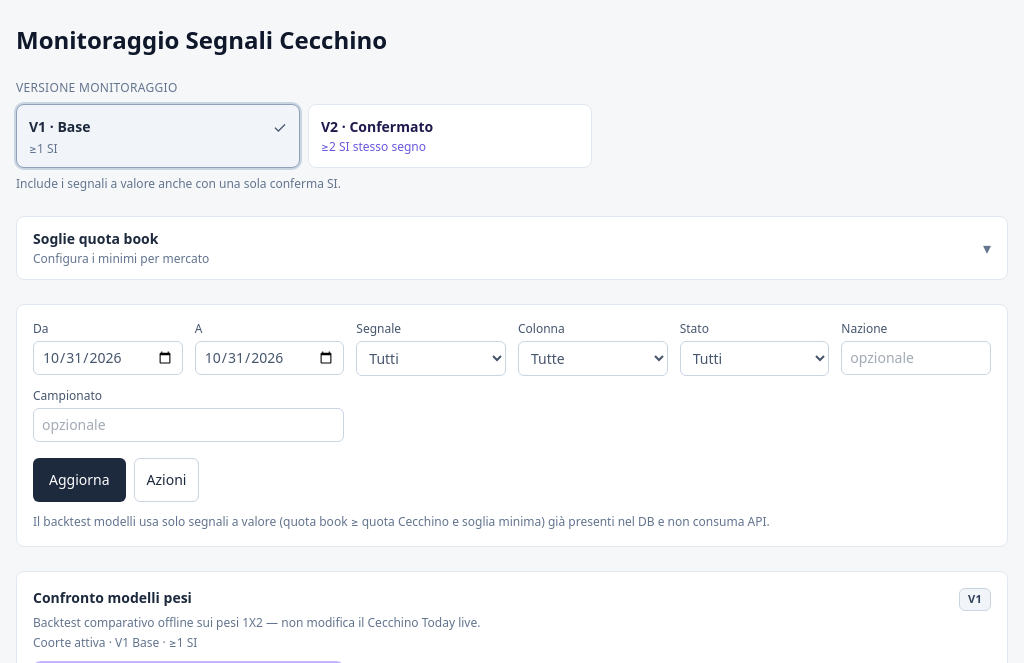
Scenario: CecchinoSignalsMonitoringPage — V1/V2 › ritorno a V2 aggiorna card e badge
Click the radio button with test id "monitoring-version-v2" at (377, 126), box [308, 104, 592, 168]
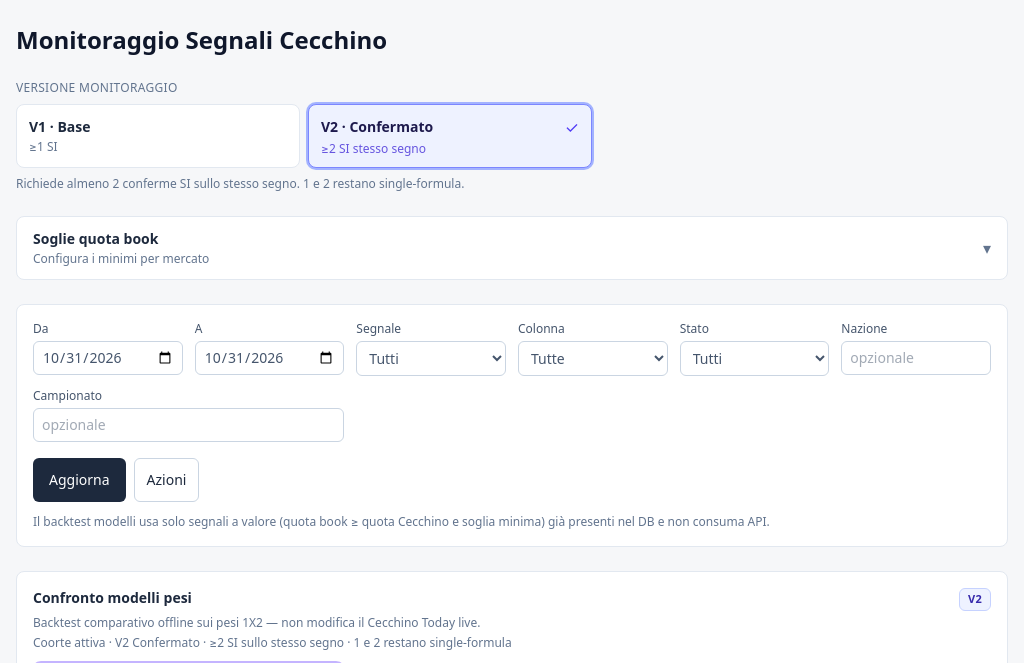
expect the text with test id "models-summary-version-badge" reads "V2": met, box [968, 591, 982, 606]
expect the text with test id "models-summary-cohort-label" shows "V2 Confermato": met, box [33, 634, 512, 650]
expect the text with test id "models-summary-cohort-label" shows "single-formula": met, box [33, 634, 512, 650]
